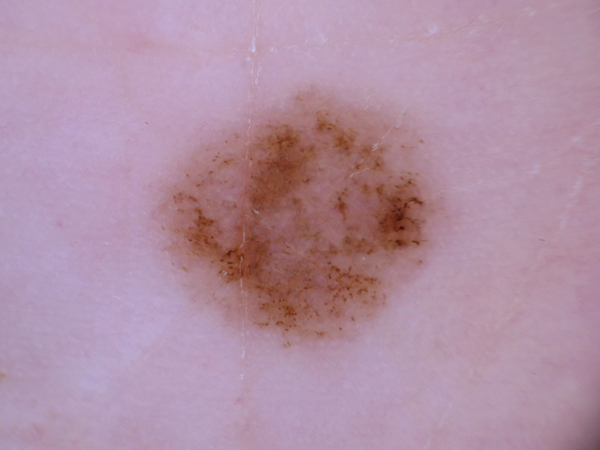Detected Lesion: (159, 90, 444, 360)
